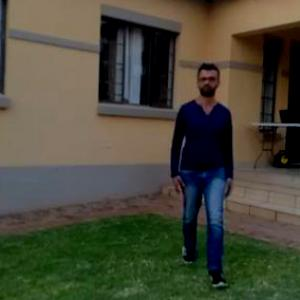follow: (167, 55, 235, 286)
